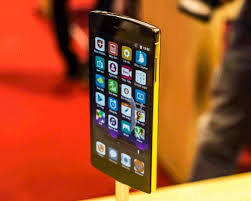bphone: (84, 6, 161, 195)
